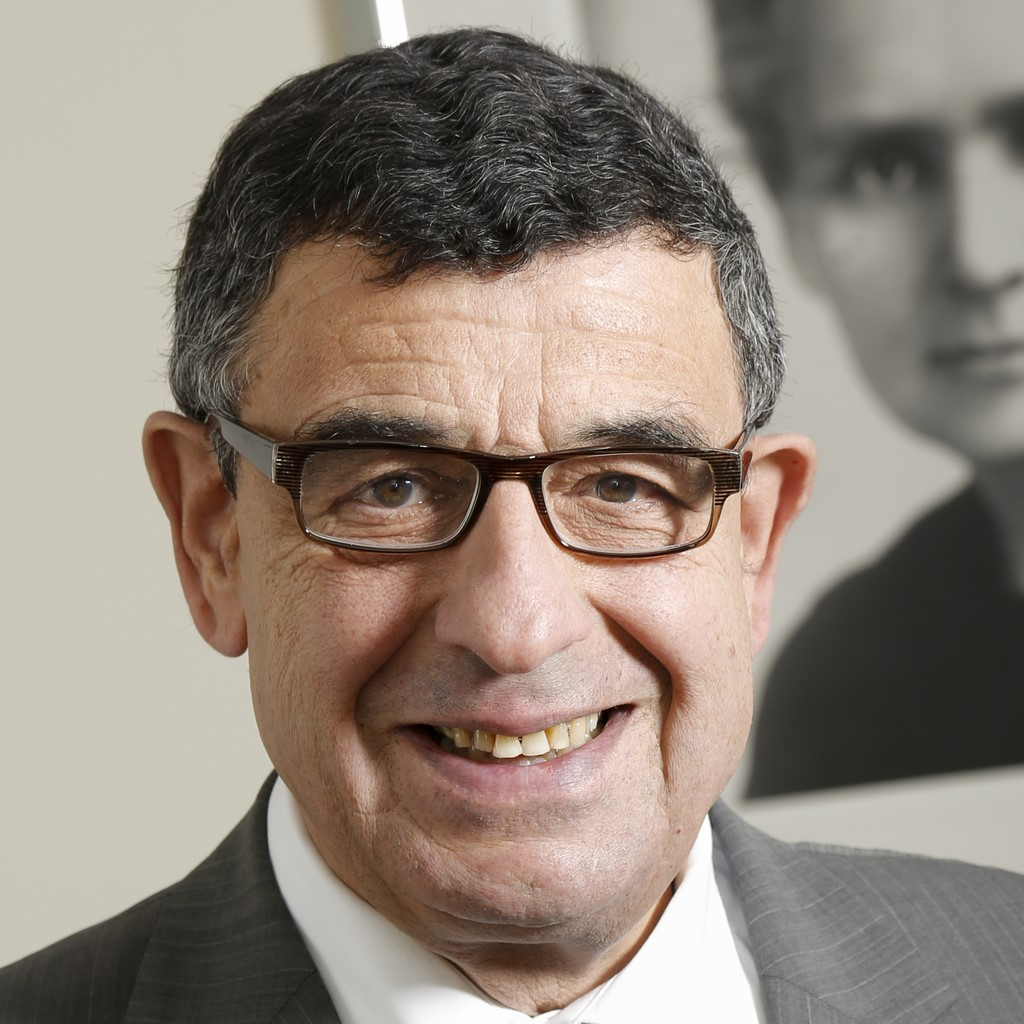sin_mascara: (186, 185, 771, 941)
